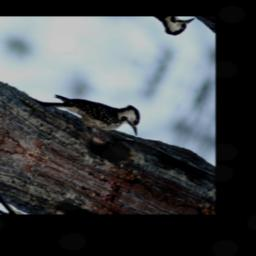Woodpecker: (31, 69, 150, 162)
